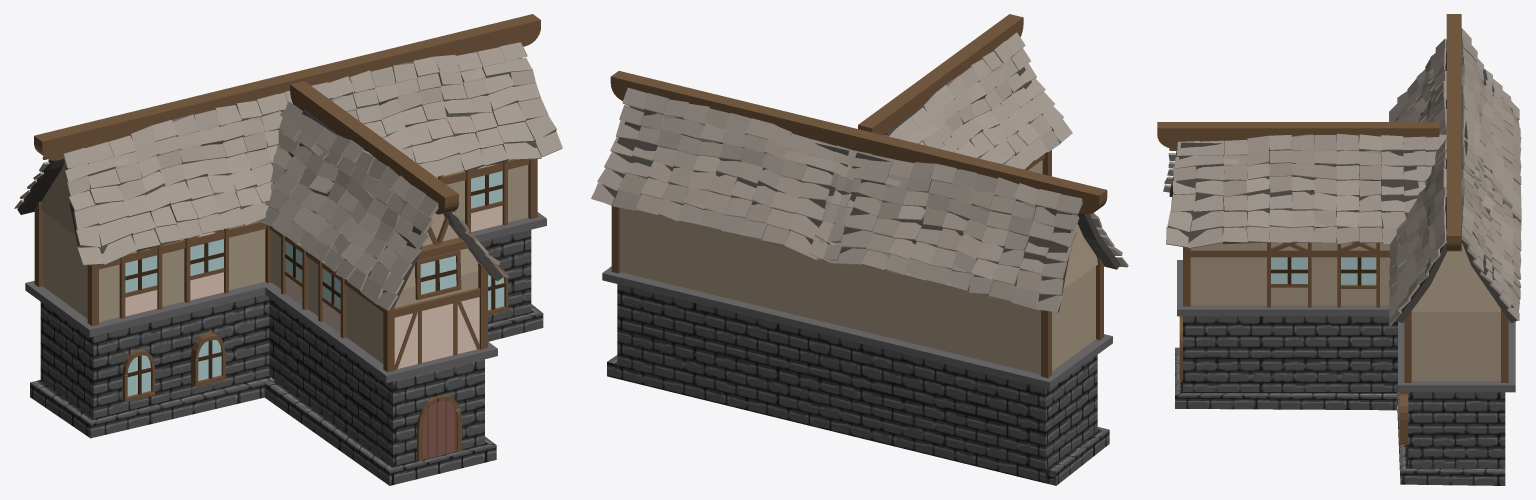
Rendered from House_03.fbx.
3 views of the same model, side by side, from view 1: azimuth 30°, elevation 25°; view 2: azimuth 150°, elevation 25°; view 3: azimuth 270°, elevation 25° (orthographic). The views are drawn at different scales.
Parts seen in each view (by area): view 1: Cube.138; view 2: Cube.138; view 3: Cube.138.
Boxes of the visible parts, <box> form: Cube.138: <box>14,14,562,485</box>; Cube.138: <box>591,14,1128,485</box>; Cube.138: <box>1157,14,1521,485</box>.
Size of the model in its own units: 2549 by 1388 by 1768.
